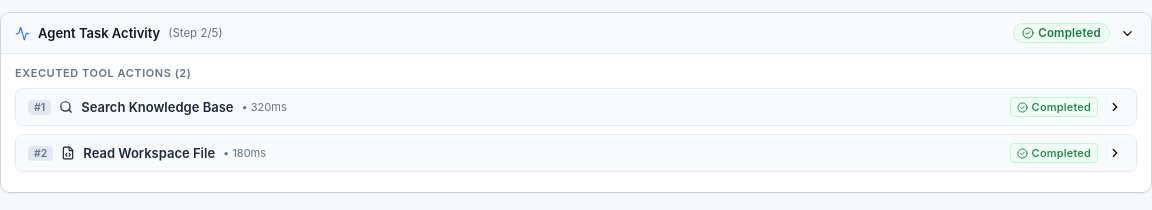
Test: Renderer: TaskActivityTimeline › toggles expansion of timeline content
Expected: the text "Search Knowledge Base" is shown, [81,99,234,115]
What coordinates should you click on to do the following:
click the button with test id "timeline-toggle-run-toggle"
I would click on:
 (1128, 33)
Its box is [1118,24,1137,42].
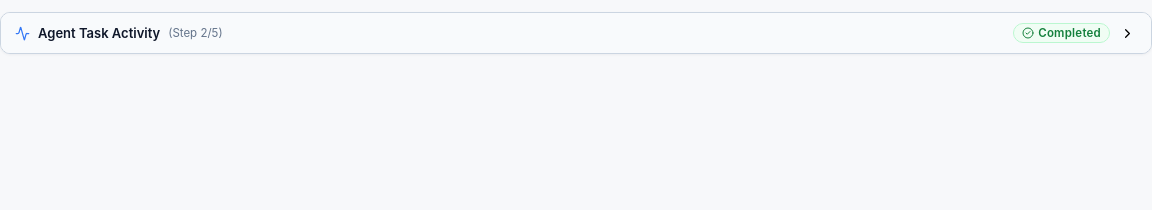
Now the text "Search Knowledge Base" is gone
